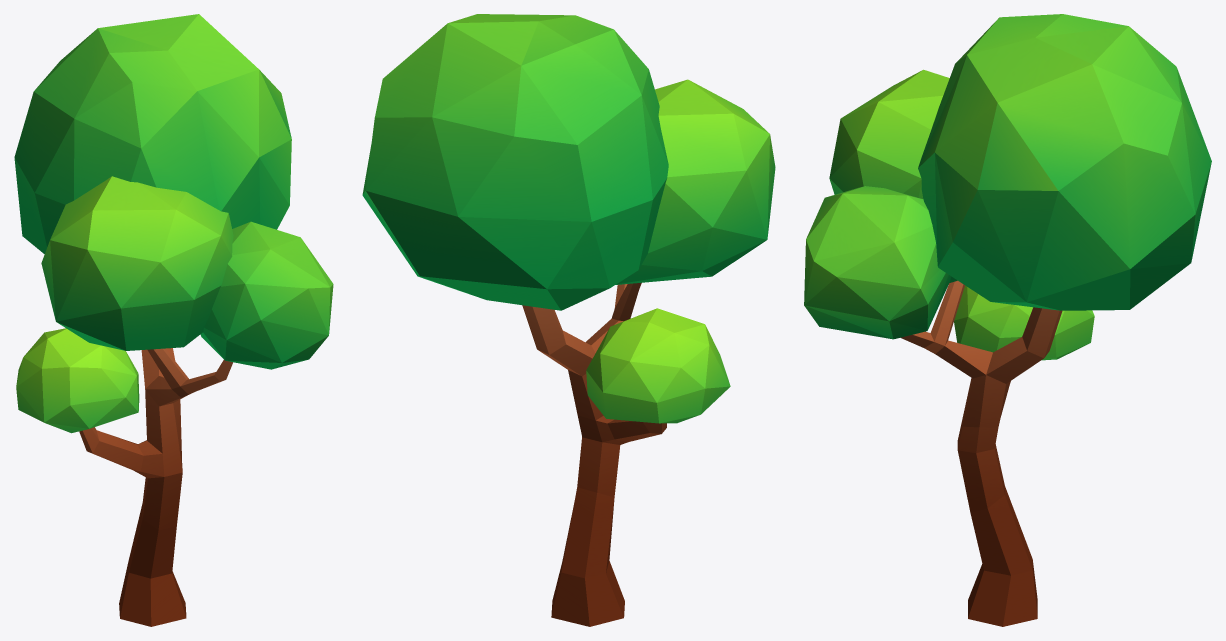
File: Tree4.fbx
3 renders of one model, left to right at view 1: azimuth 30°, elevation 25°; view 2: azimuth 150°, elevation 25°; view 3: azimuth 270°, elevation 25°, orthographic. The views are drawn at different scales.
Parts seen in each view (by area): view 1: tree_B2; view 2: tree_B2; view 3: tree_B2.
Boxes of the visible parts, left/top/right/bottom form: tree_B2: left=14, top=14, right=333, bottom=626; tree_B2: left=362, top=14, right=775, bottom=626; tree_B2: left=804, top=14, right=1211, bottom=626.
Size of the model in its own units: 162 by 296 by 185.
